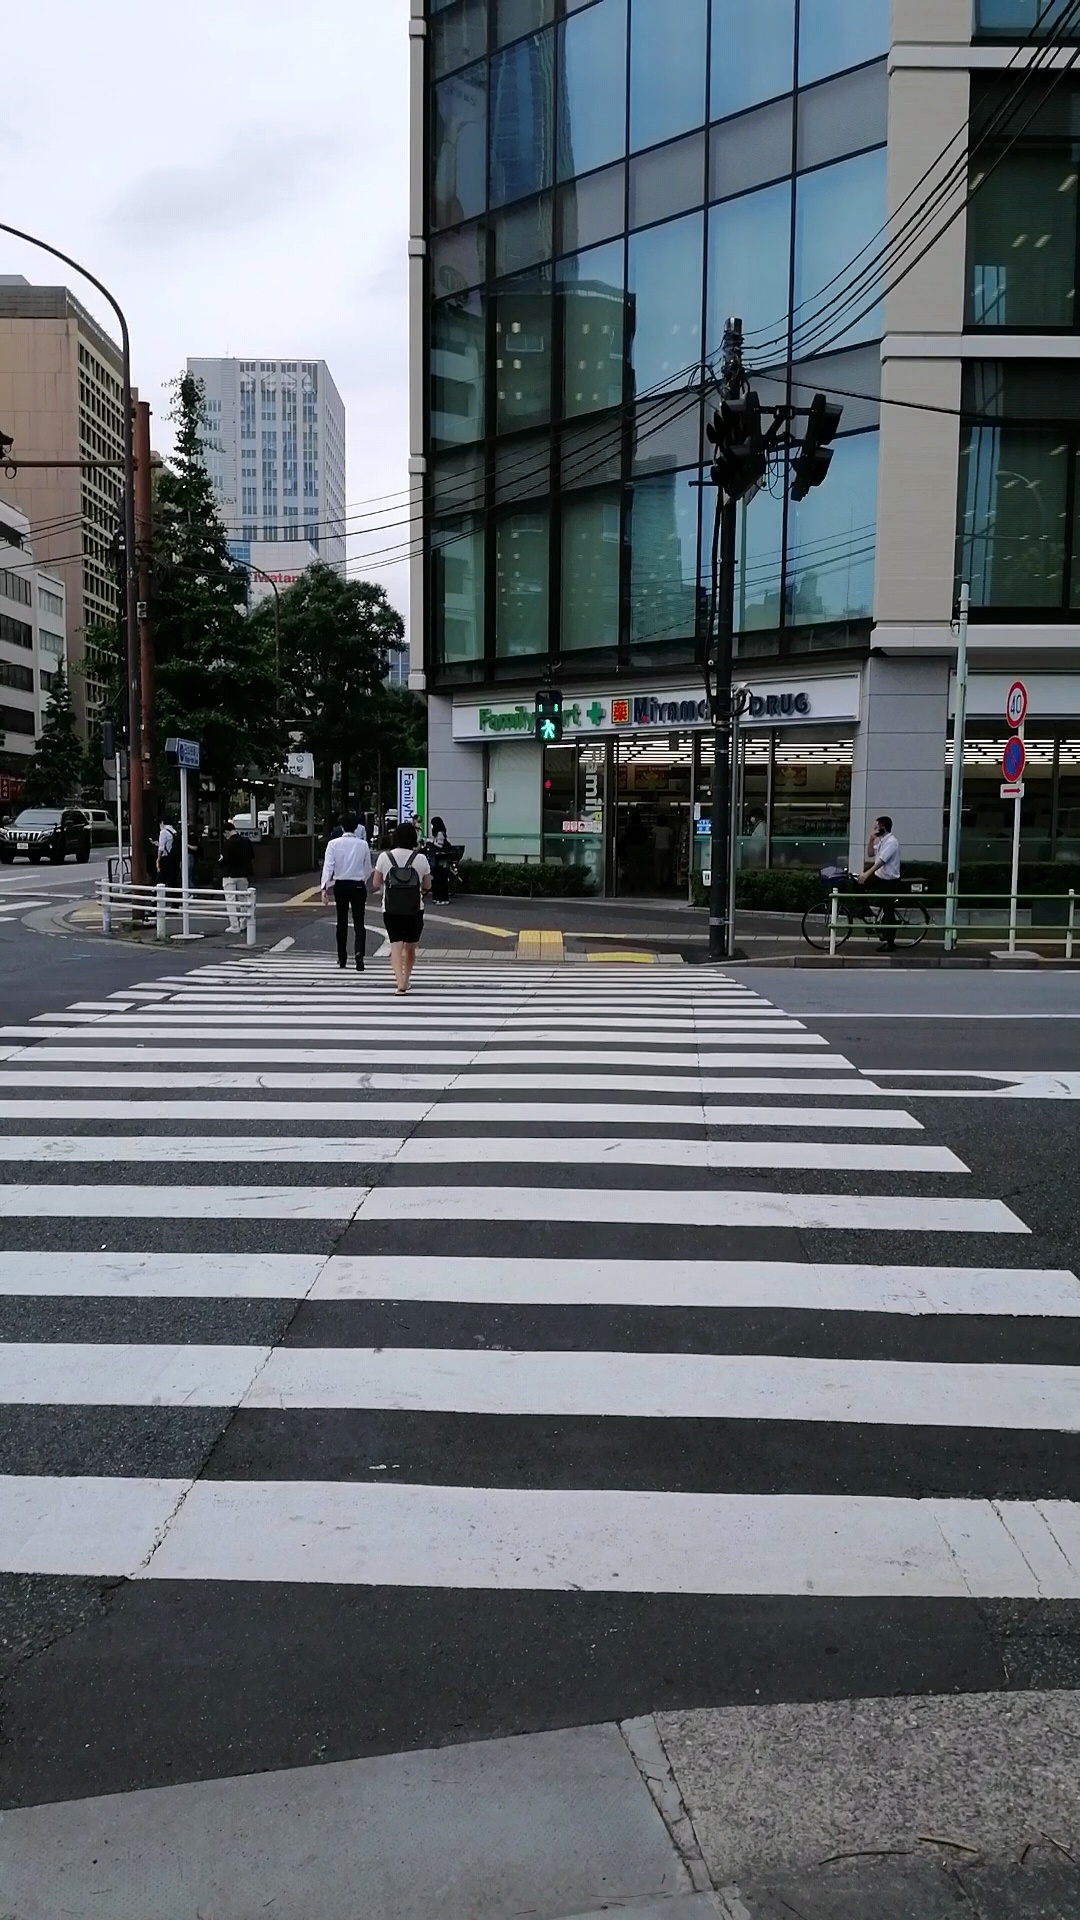green: (531, 690, 563, 745)
